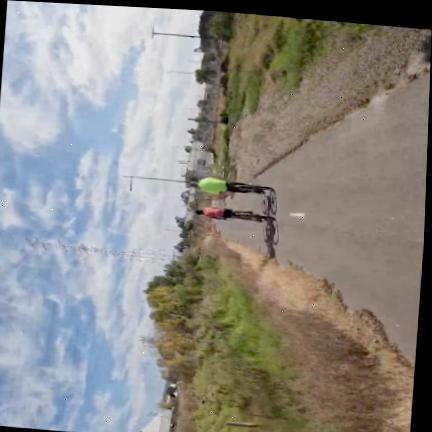Bike_Lane: (217, 72, 430, 362)
